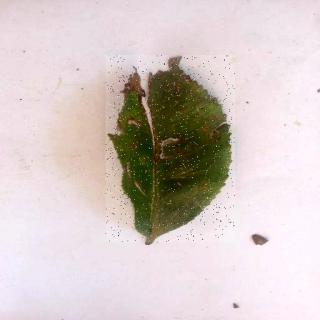Brown Blight: (107, 56, 236, 244)
